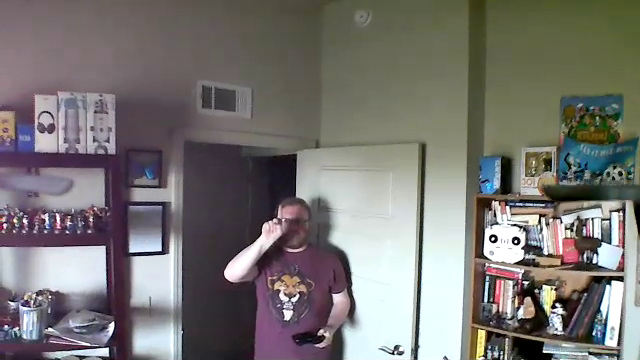up: (260, 202, 286, 238)
